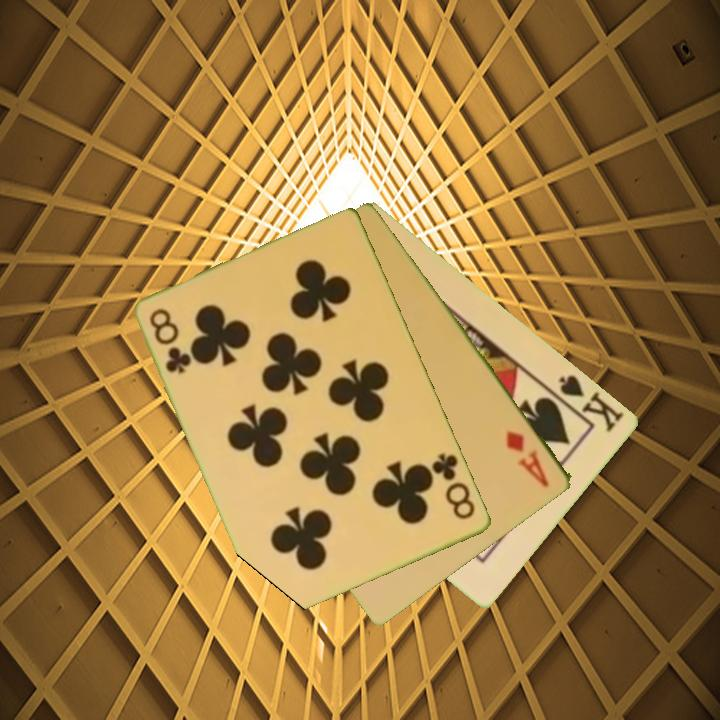8c: (428, 450, 479, 523), (146, 305, 195, 377)
Ad: (503, 427, 553, 490)
Ks: (556, 371, 628, 436)
